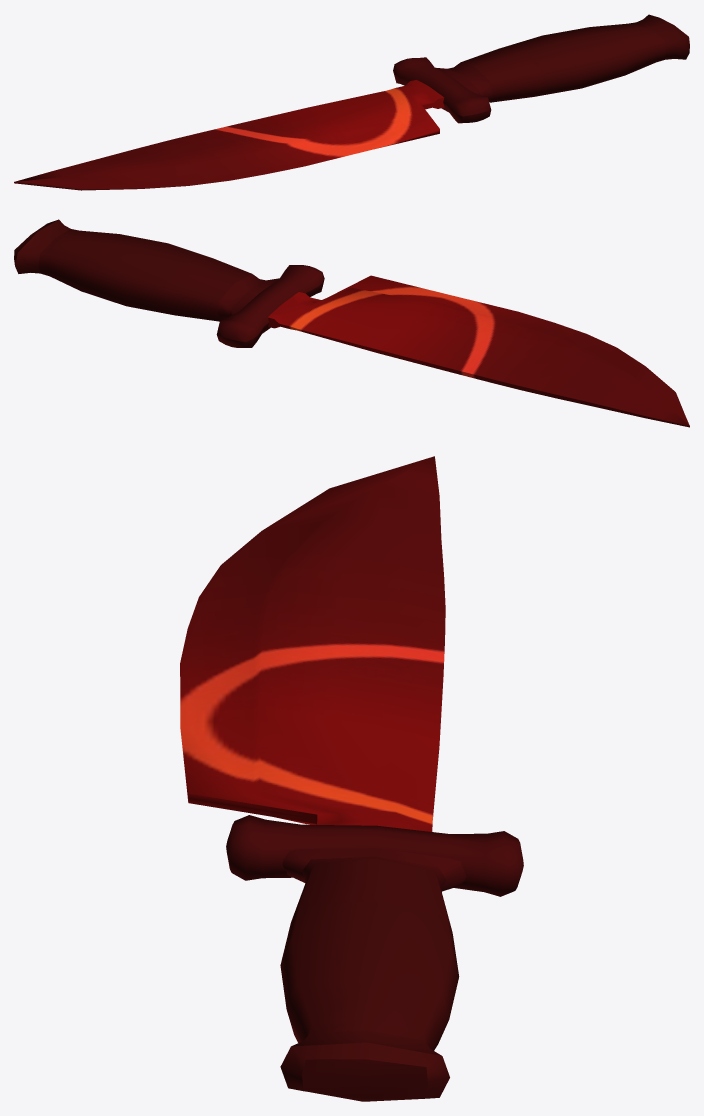
File: knife.fbx
3 renders of one model, top to bottom at view 1: azimuth 30°, elevation 25°; view 2: azimuth 150°, elevation 25°; view 3: azimuth 270°, elevation 25°, orthographic. The views are drawn at different scales.
Visible parts, largest first — view 1: c_real_knife.mdl.cleaner.gles; view 2: c_real_knife.mdl.cleaner.gles; view 3: c_real_knife.mdl.cleaner.gles.
Boxes of the visible parts, bbox=[...] form: c_real_knife.mdl.cleaner.gles: bbox=[14, 14, 689, 190]; c_real_knife.mdl.cleaner.gles: bbox=[14, 219, 689, 427]; c_real_knife.mdl.cleaner.gles: bbox=[180, 456, 523, 1101].
Bounding box in the file's own units: 47.43 × 2.74 × 10.95.
